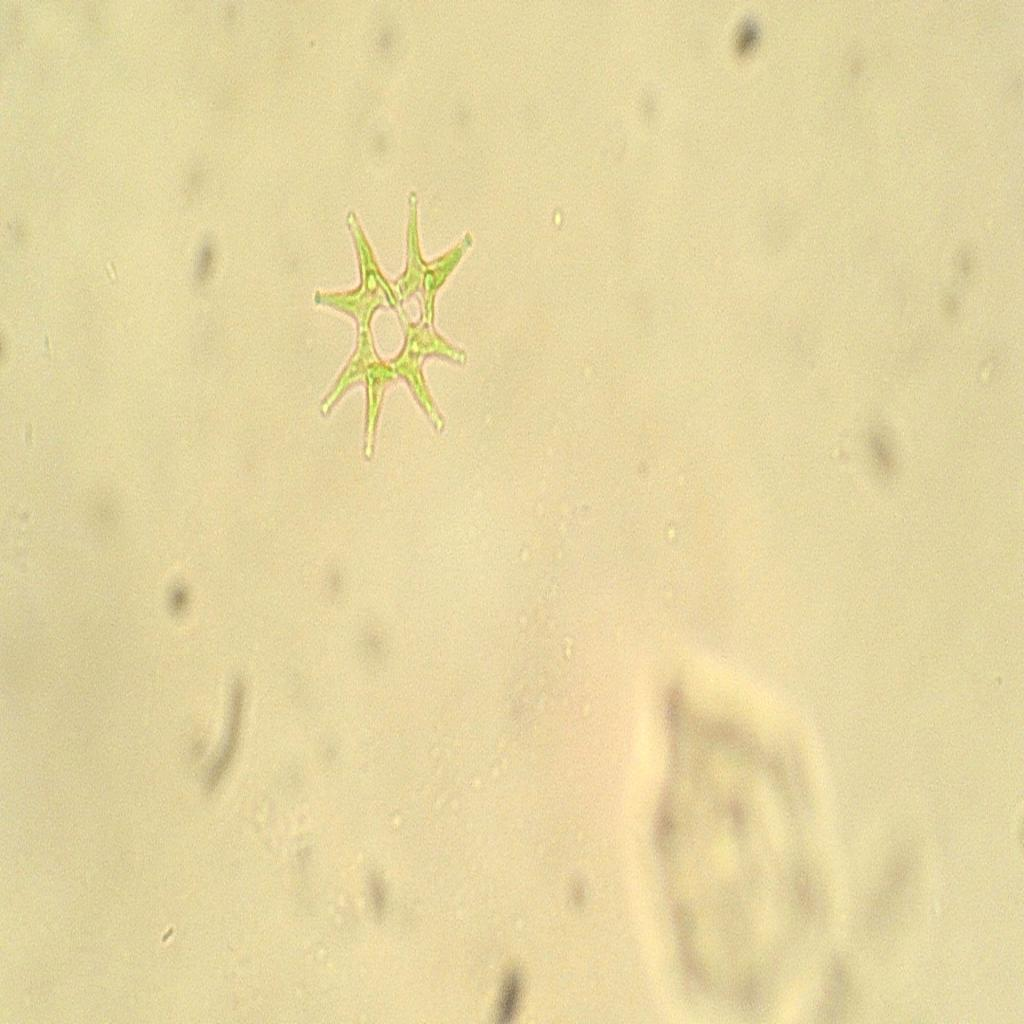Pediastrum_75FO: (298, 178, 487, 480)
